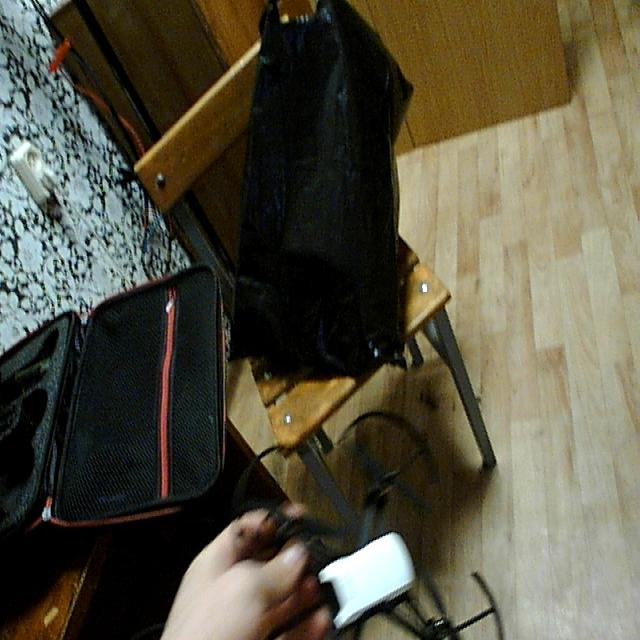drone: (215, 395, 512, 640)
